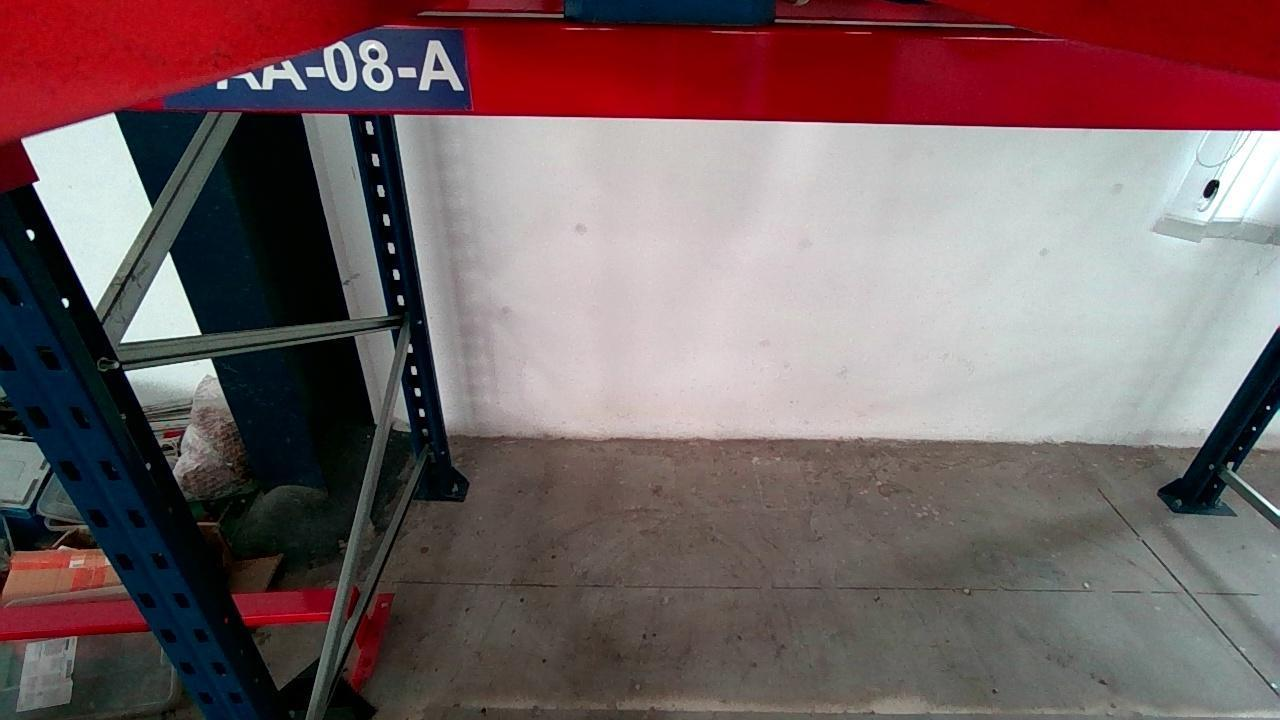h_rack: (126, 25, 1277, 130)
